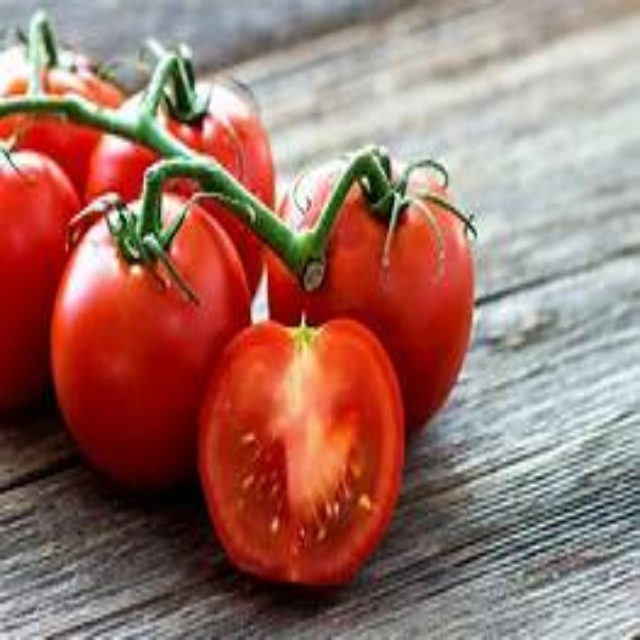tomato: (267, 145, 487, 438), (52, 190, 251, 468), (74, 70, 289, 293), (220, 337, 399, 586)
